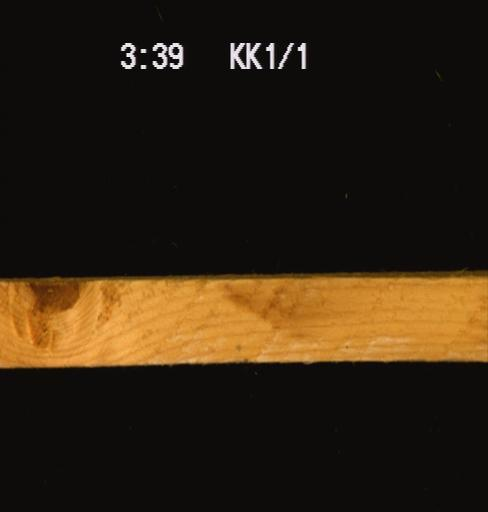edge_knot: (10, 277, 82, 351)
